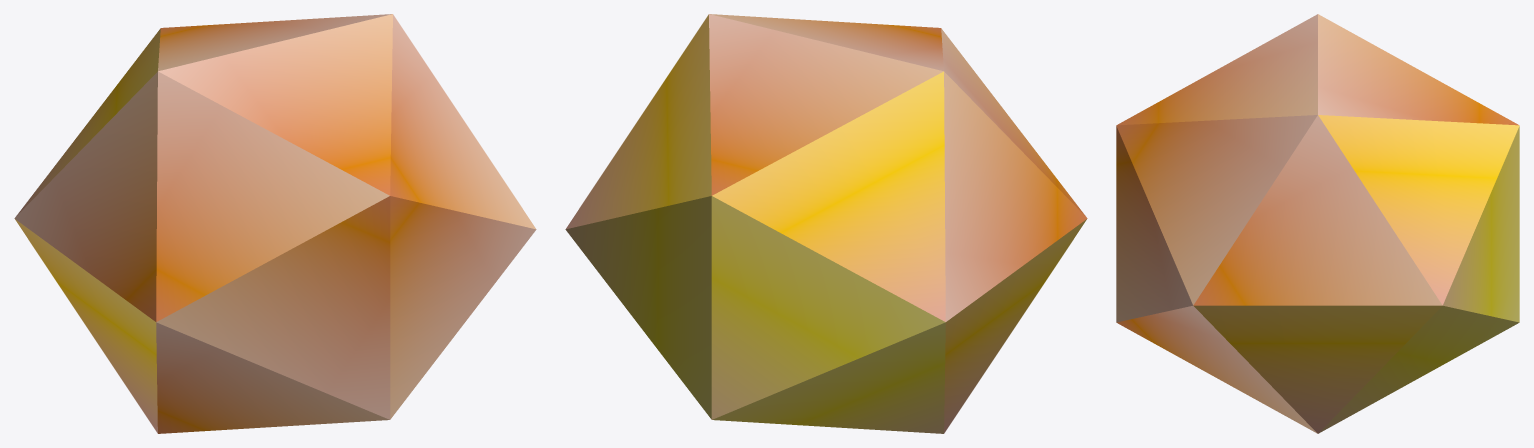
The model's file is gem07.fbx.
3 renders of one model, left to right at view 1: azimuth 30°, elevation 25°; view 2: azimuth 150°, elevation 25°; view 3: azimuth 270°, elevation 25°, orthographic. The views are drawn at different scales.
Visible parts, largest first — view 1: gem07; view 2: gem07; view 3: gem07.
Boxes of the visible parts, box(x1,y1,x2,y2) form: gem07: box(14, 14, 536, 433); gem07: box(565, 14, 1087, 433); gem07: box(1116, 14, 1519, 433).
Size of the model in its own units: 75.21 by 68.51 by 78.55.
